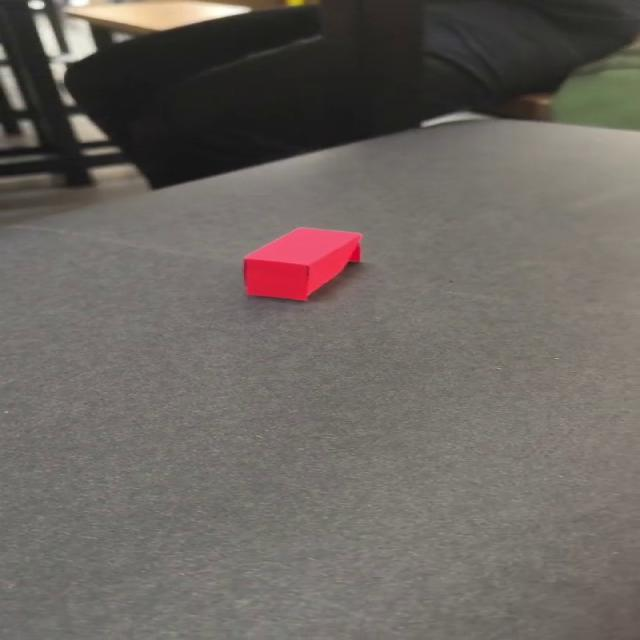red block: (241, 226, 363, 301)
